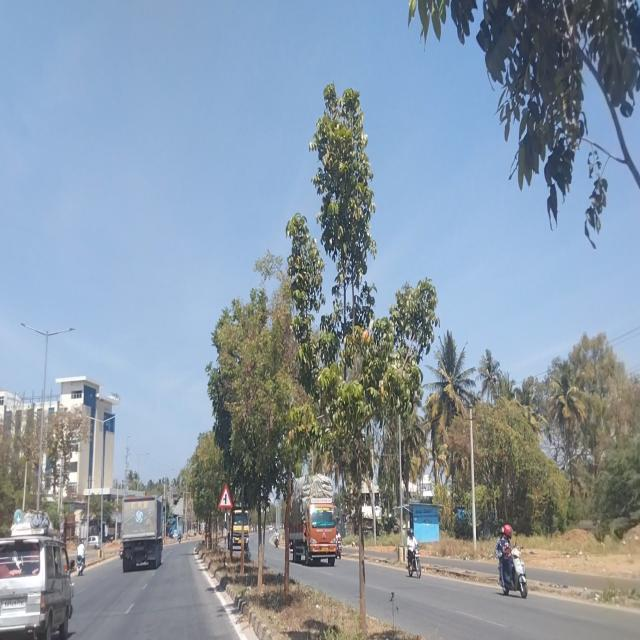bien_cam: (218, 484, 233, 509)
